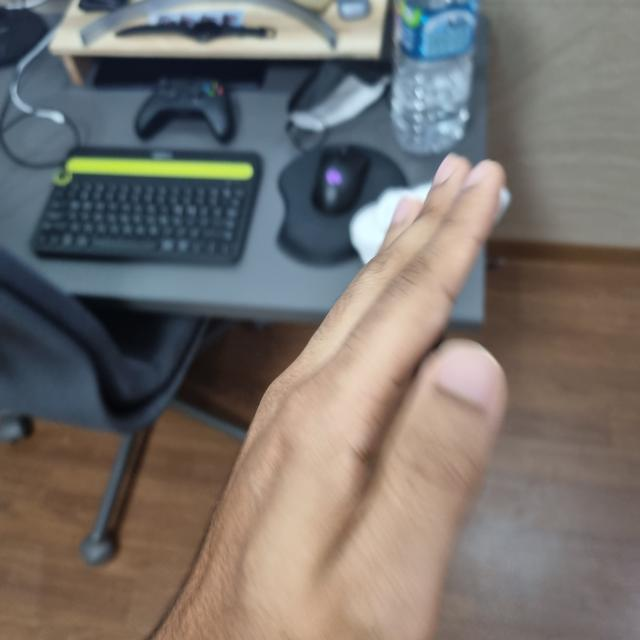Paper: (156, 162, 506, 640)
